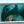cylinder: (0, 1, 24, 24)
